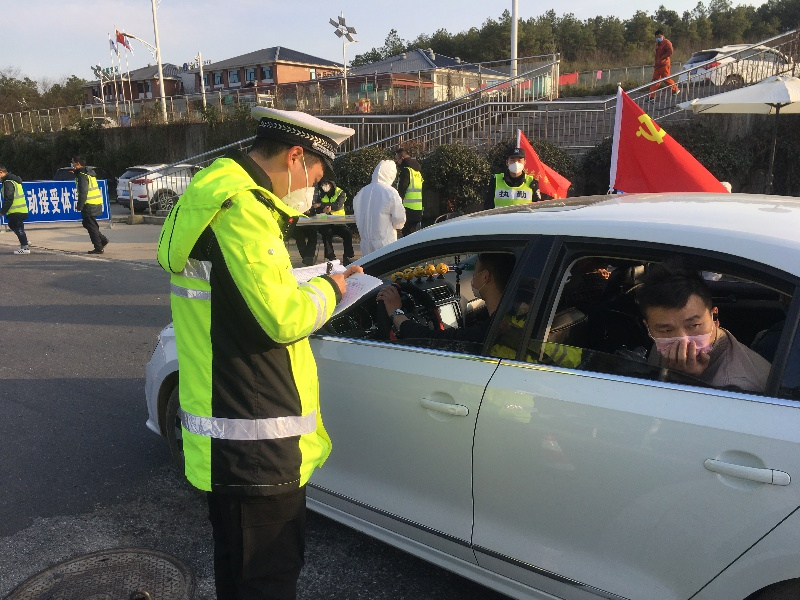ManaoArotava: (244, 91, 361, 244), (621, 263, 748, 382)
